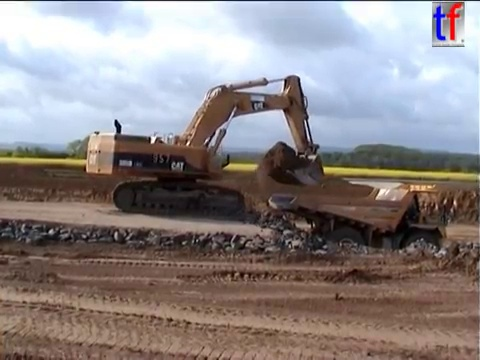excavator: (83, 73, 327, 219)
truck: (265, 181, 457, 272)
